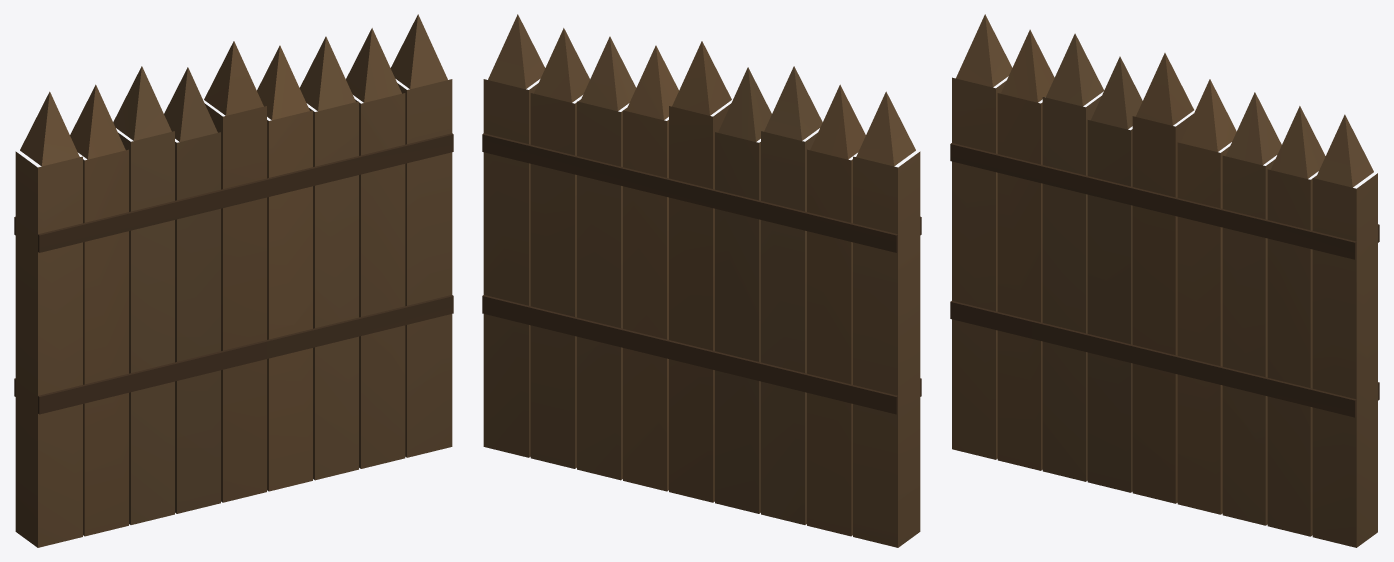
The model's file is fence.palisade.logs.glb.
3 renders of one model, left to right at view 1: azimuth 30°, elevation 25°; view 2: azimuth 150°, elevation 25°; view 3: azimuth 330°, elevation 25°, orthographic. The views are drawn at different scales.
Visible parts, largest first — view 1: fence_palisade_logs; view 2: fence_palisade_logs; view 3: fence_palisade_logs.
Part boxes in pixels (bbox=[...]): fence_palisade_logs: bbox=[14, 14, 453, 547]; fence_palisade_logs: bbox=[482, 14, 921, 547]; fence_palisade_logs: bbox=[950, 14, 1379, 547].
Size of what is drawn, in the model's own units: 1.74 by 1.8 by 0.184.
